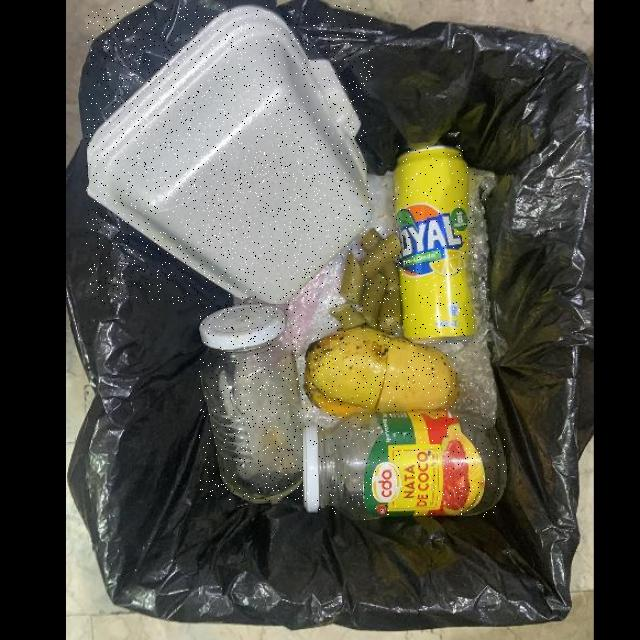biowaste: (303, 327, 457, 416), (328, 228, 403, 333)
glass: (304, 411, 505, 520), (199, 304, 304, 502)
metal: (394, 145, 476, 344)
styrofoam: (86, 6, 373, 304)
